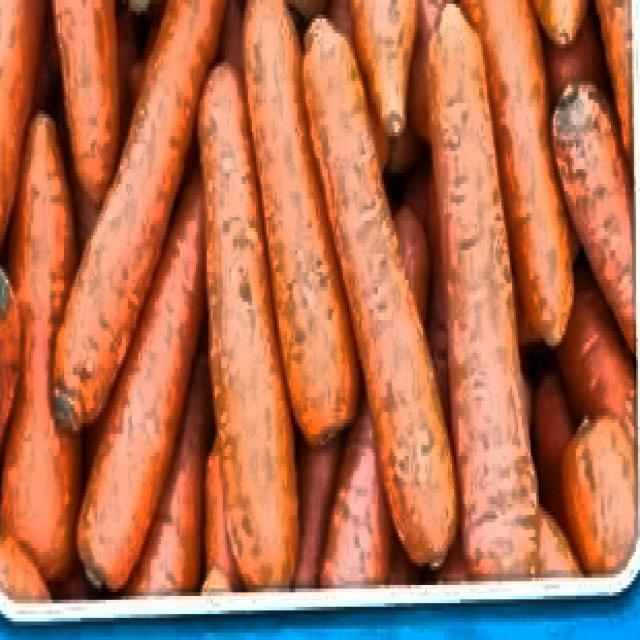Vegetable: (0, 0, 609, 548)
